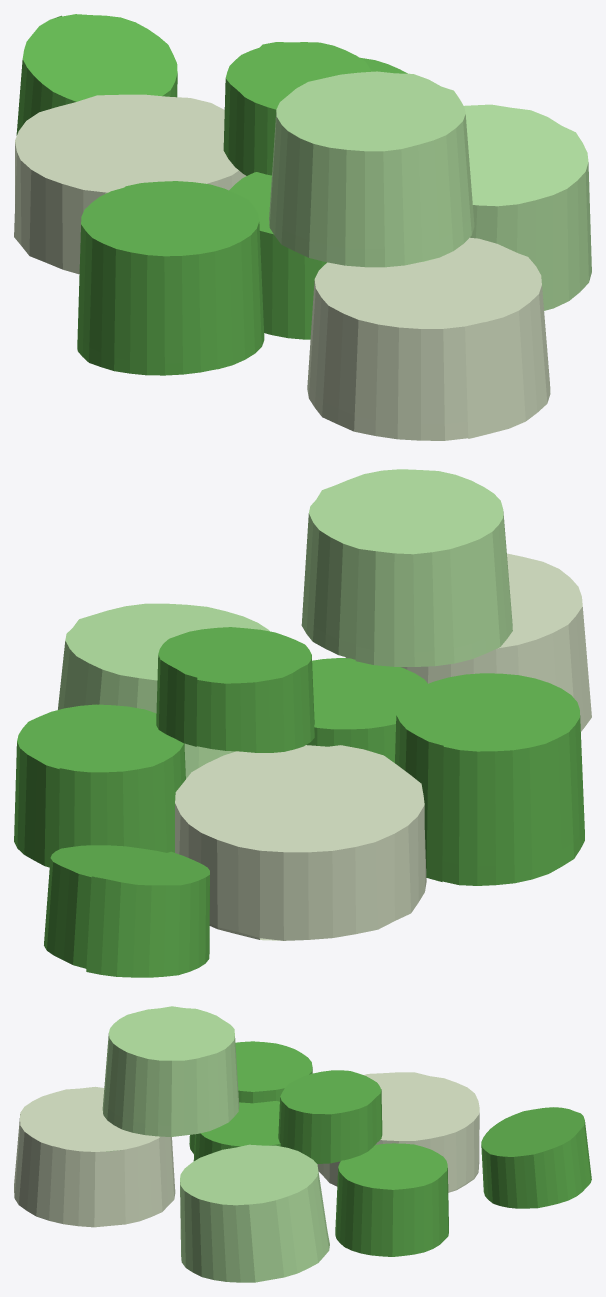
The model's file is greenOnionCut.fbx.
3 views of the same model, one above another, from view 1: azimuth 30°, elevation 25°; view 2: azimuth 150°, elevation 25°; view 3: azimuth 270°, elevation 25° (orthographic). The views are drawn at different scales.
Parts seen in each view (by area): view 1: Cylinder.016, Cylinder.018, Cylinder.019, Cylinder.015, Cylinder.017, Cylinder.022, Cylinder.023, Cylinder.020; view 2: Cylinder.015, Cylinder.018, Cylinder.019, Cylinder.021, Cylinder.022, Cylinder.023, Cylinder.017, Cylinder.016, Cylinder.020; view 3: Cylinder.017, Cylinder.016, Cylinder.018, Cylinder.021, Cylinder.022, Cylinder.015, Cylinder.023, Cylinder.019, Cylinder.020.
Boxes of the visible parts, x1=… form: Cylinder.016: x1=307, y1=237, x2=550, y2=440; Cylinder.018: x1=269, y1=71, x2=474, y2=267; Cylinder.019: x1=77, y1=181, x2=264, y2=375; Cylinder.015: x1=14, y1=94, x2=246, y2=274; Cylinder.017: x1=464, y1=104, x2=591, y2=310; Cylinder.022: x1=16, y1=14, x2=177, y2=135; Cylinder.023: x1=223, y1=42, x2=371, y2=175; Cylinder.020: x1=229, y1=172, x2=326, y2=339; Cylinder.015: x1=175, y1=745, x2=426, y2=940; Cylinder.018: x1=301, y1=469, x2=512, y2=666; Cylinder.019: x1=395, y1=673, x2=584, y2=885; Cylinder.021: x1=14, y1=704, x2=185, y2=867; Cylinder.022: x1=44, y1=845, x2=209, y2=977; Cylinder.023: x1=156, y1=627, x2=314, y2=752; Cylinder.017: x1=58, y1=603, x2=269, y2=778; Cylinder.016: x1=345, y1=553, x2=591, y2=731; Cylinder.020: x1=306, y1=658, x2=427, y2=762; Cylinder.017: x1=180, y1=1144, x2=329, y2=1282; Cylinder.016: x1=14, y1=1086, x2=175, y2=1227; Cylinder.018: x1=102, y1=1006, x2=239, y2=1136; Cylinder.021: x1=335, y1=1143, x2=448, y2=1256; Cylinder.022: x1=481, y1=1107, x2=591, y2=1208; Cylinder.015: x1=317, y1=1072, x2=479, y2=1192; Cylinder.023: x1=278, y1=1070, x2=382, y2=1163; Cylinder.019: x1=189, y1=1041, x2=312, y2=1153; Cylinder.020: x1=193, y1=1101, x2=280, y2=1161.
Bounding box in the file's own units: 161 × 78.24 × 244.
